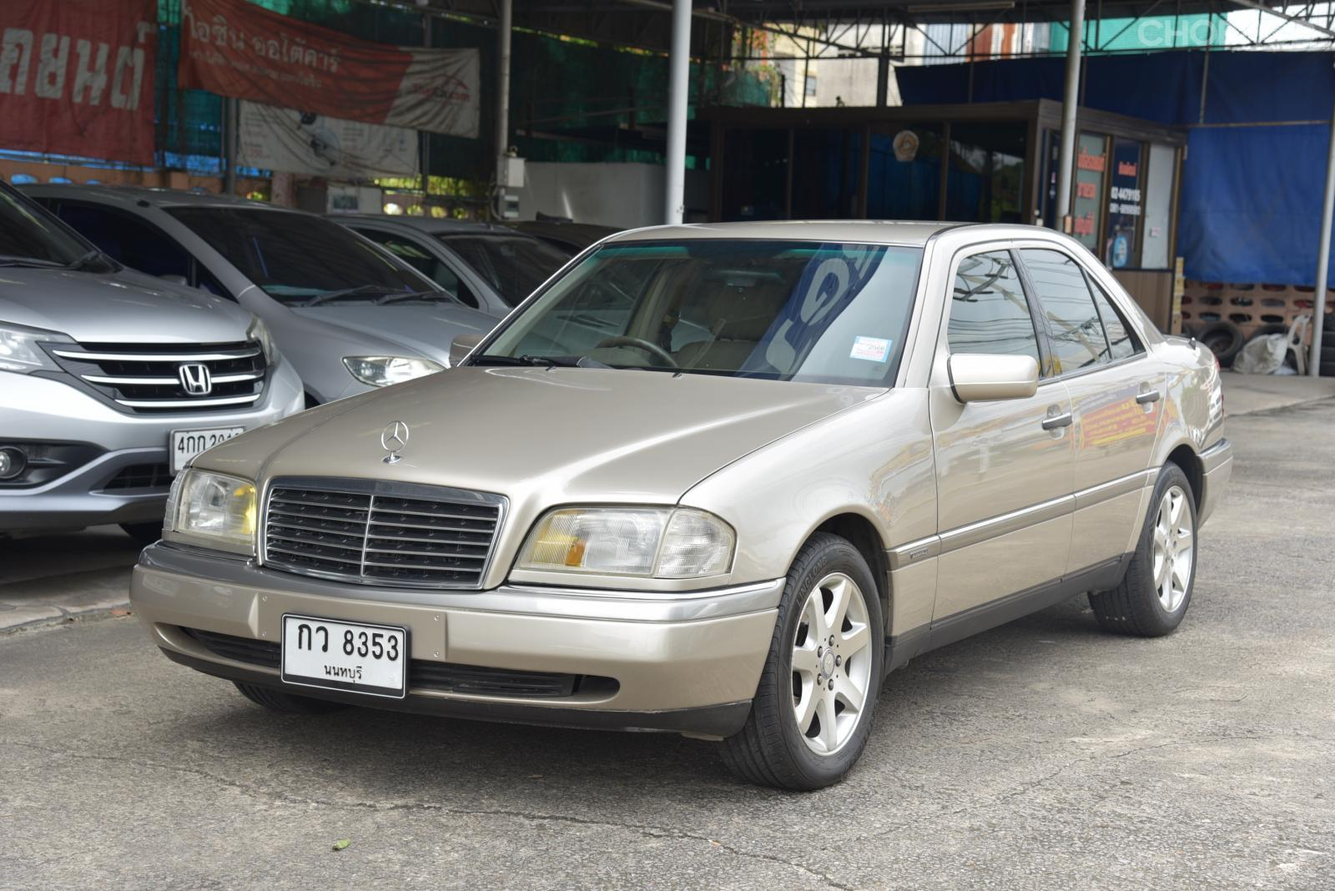license-plate: (271, 608, 414, 706)
